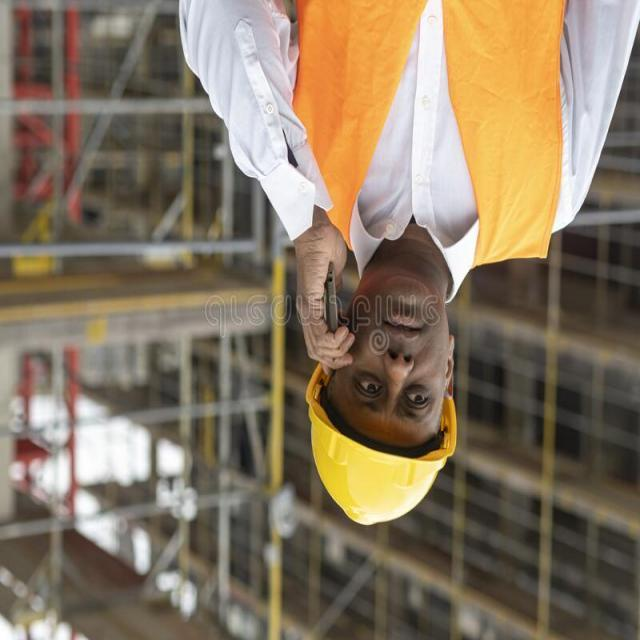safetyhelmet: (290, 327, 472, 528)
